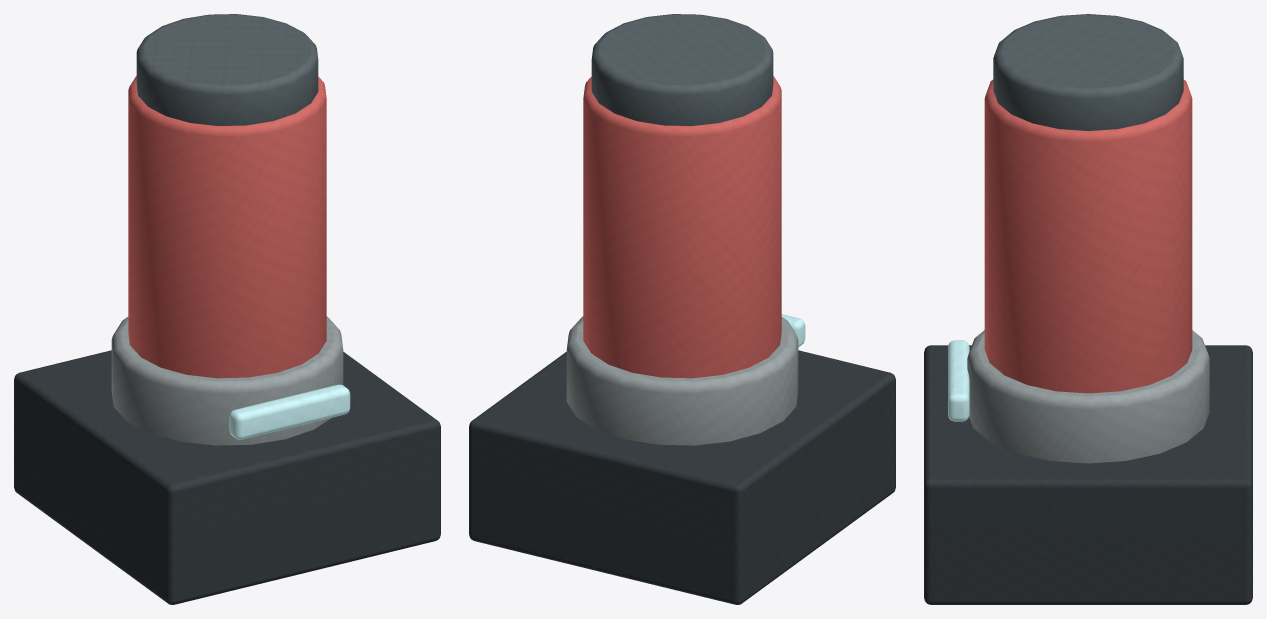
File: WarningBeacon.glb
The picture shows the model from 3 angles, left to right: view 1: azimuth 30°, elevation 25°; view 2: azimuth 150°, elevation 25°; view 3: azimuth 270°, elevation 25°; orthographic projection. The views are drawn at different scales.
Parts seen in each view (by area): view 1: WarningBeacon_Mesh; view 2: WarningBeacon_Mesh; view 3: WarningBeacon_Mesh.
Boxes of the visible parts, <box> form: WarningBeacon_Mesh: <box>14,14,440,604</box>; WarningBeacon_Mesh: <box>469,14,895,604</box>; WarningBeacon_Mesh: <box>924,14,1252,604</box>.
Size of the model in its own units: 0.38 by 0.62 by 0.38.
5 materials, 5 textured.
